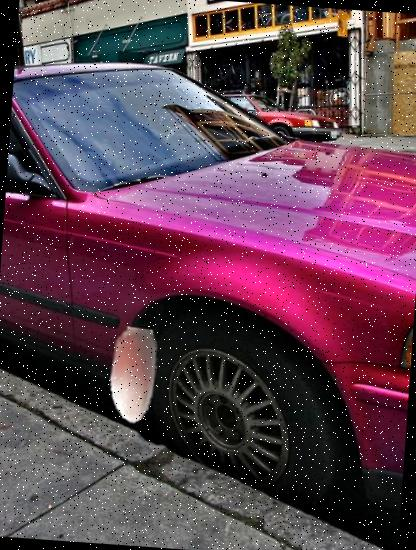Hazelnut: (80, 324, 186, 428)
